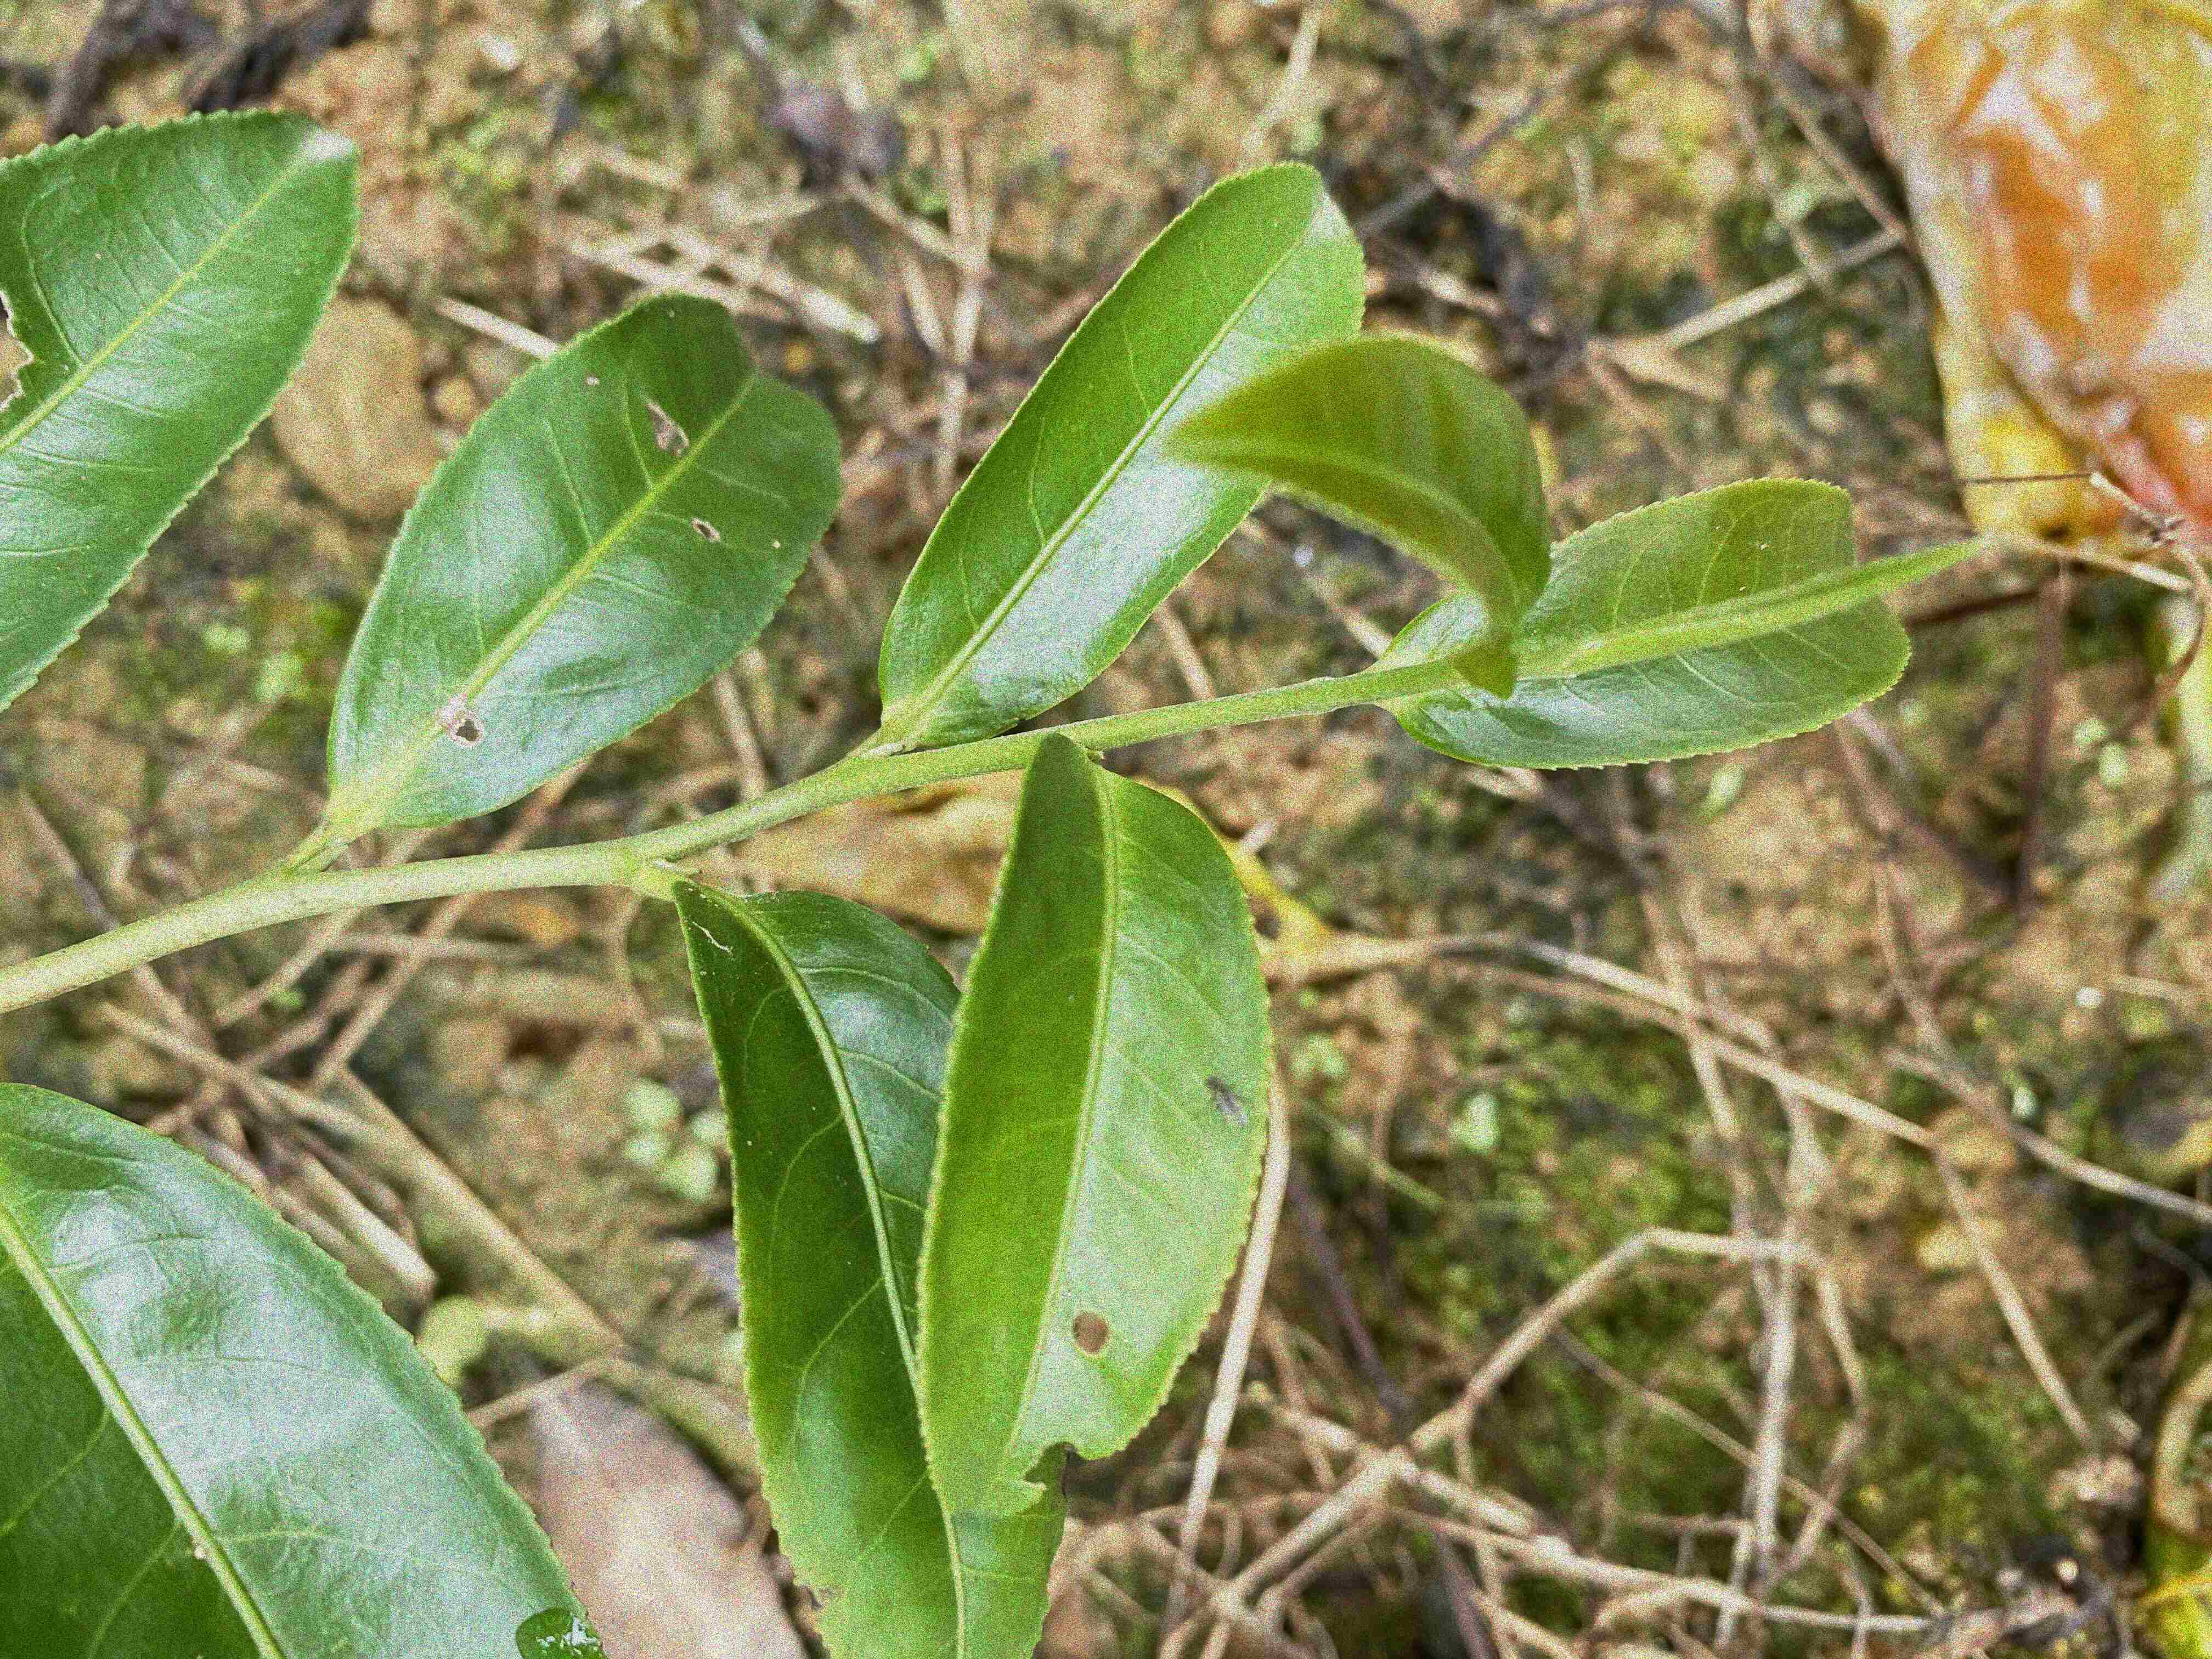chihuo_high: (914, 741, 1273, 1520)
chihuo_low: (2, 106, 364, 711)
healthy: (880, 155, 1369, 751), (1376, 477, 1918, 769), (1165, 336, 1555, 701)
tanju_low: (674, 880, 1064, 1656), (327, 291, 843, 831)
